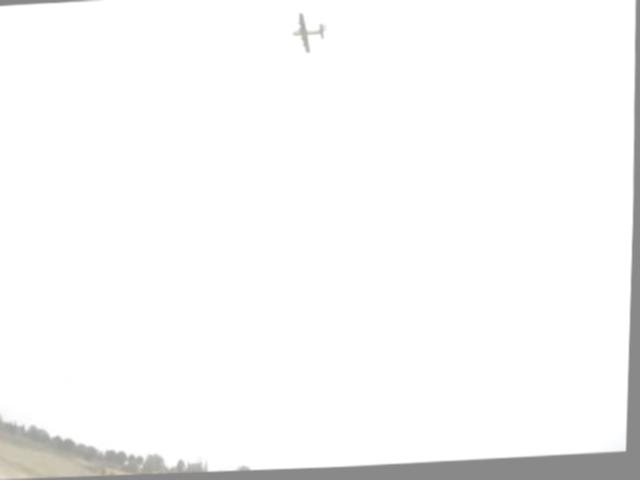uav: (286, 8, 334, 63)
